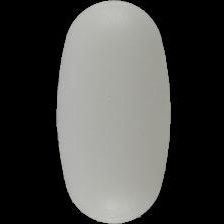55154-9728: (0, 0, 224, 224)
